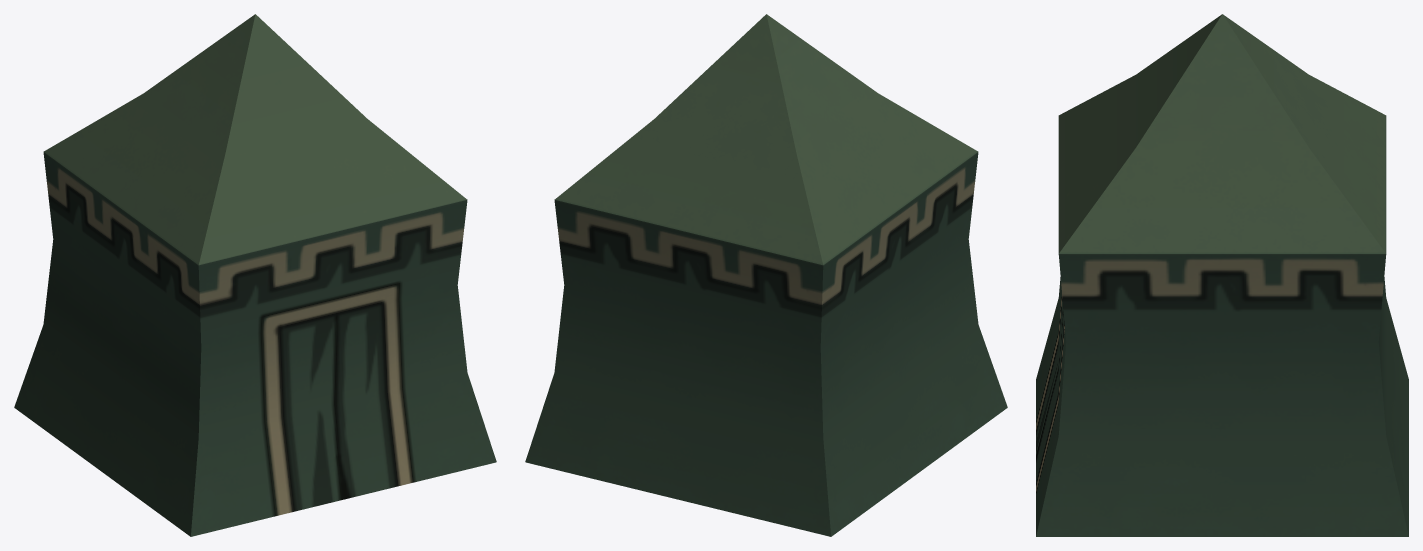
Rendered from arena_9.FBX.
3 renders of one model, left to right at view 1: azimuth 30°, elevation 25°; view 2: azimuth 150°, elevation 25°; view 3: azimuth 270°, elevation 25°, orthographic. The views are drawn at different scales.
Visible parts, largest first — view 1: Box005; view 2: Box005; view 3: Box005.
Part boxes in pixels (<box>): Box005: <box>14,14,496,536</box>; Box005: <box>525,14,1007,536</box>; Box005: <box>1036,14,1408,536</box>.
Size of the model in its own units: 389 by 512 by 389.
